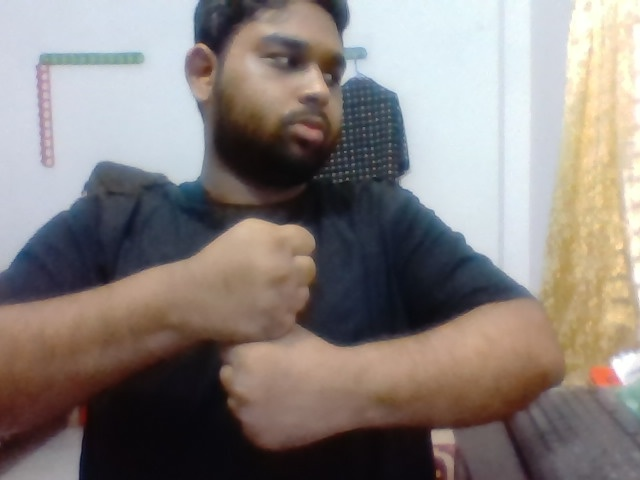G: (200, 205, 351, 460)
